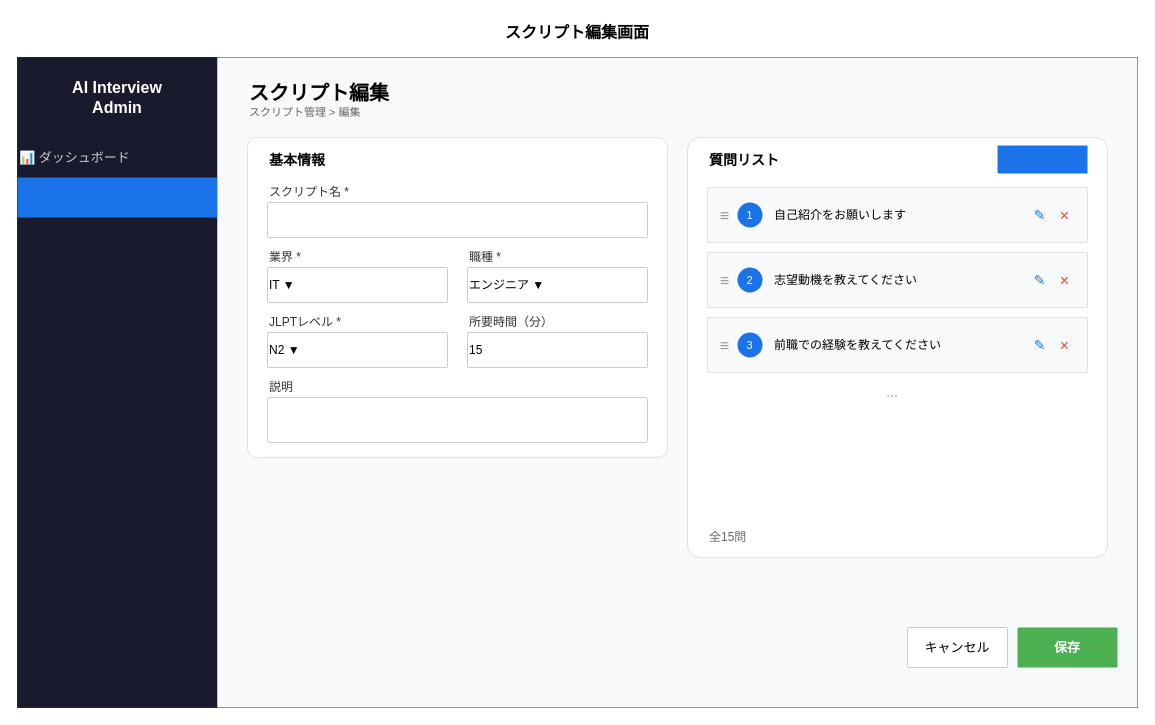
Some shapes in this 1155 by 725 pixel diagram are drawn without their labels. Here are the shapes that lost their labels. From the top down, the box of each, then its label:
(997, 145, 1087, 173): + 質問追加
(17, 177, 217, 217): 📝 スクリプト管理
(266, 202, 648, 238): IT企業向け基本面接
(266, 396, 648, 442): IT企業の新卒採用向け基本的な面接スクリプト
